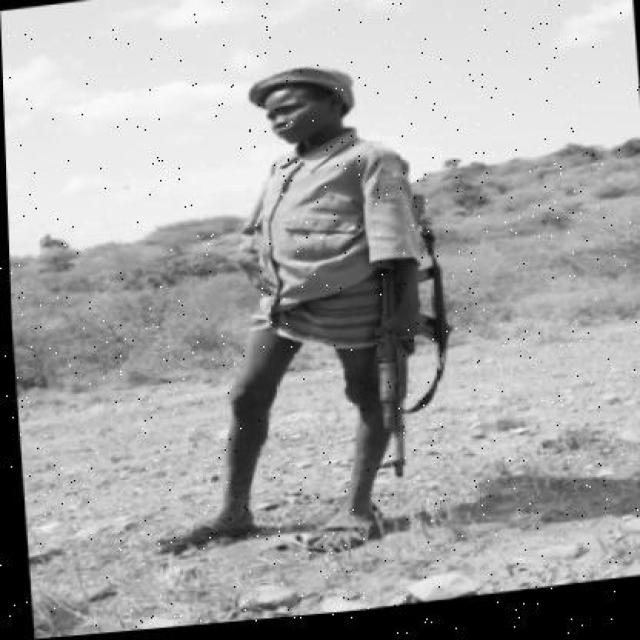weapon: (372, 193, 452, 478)
